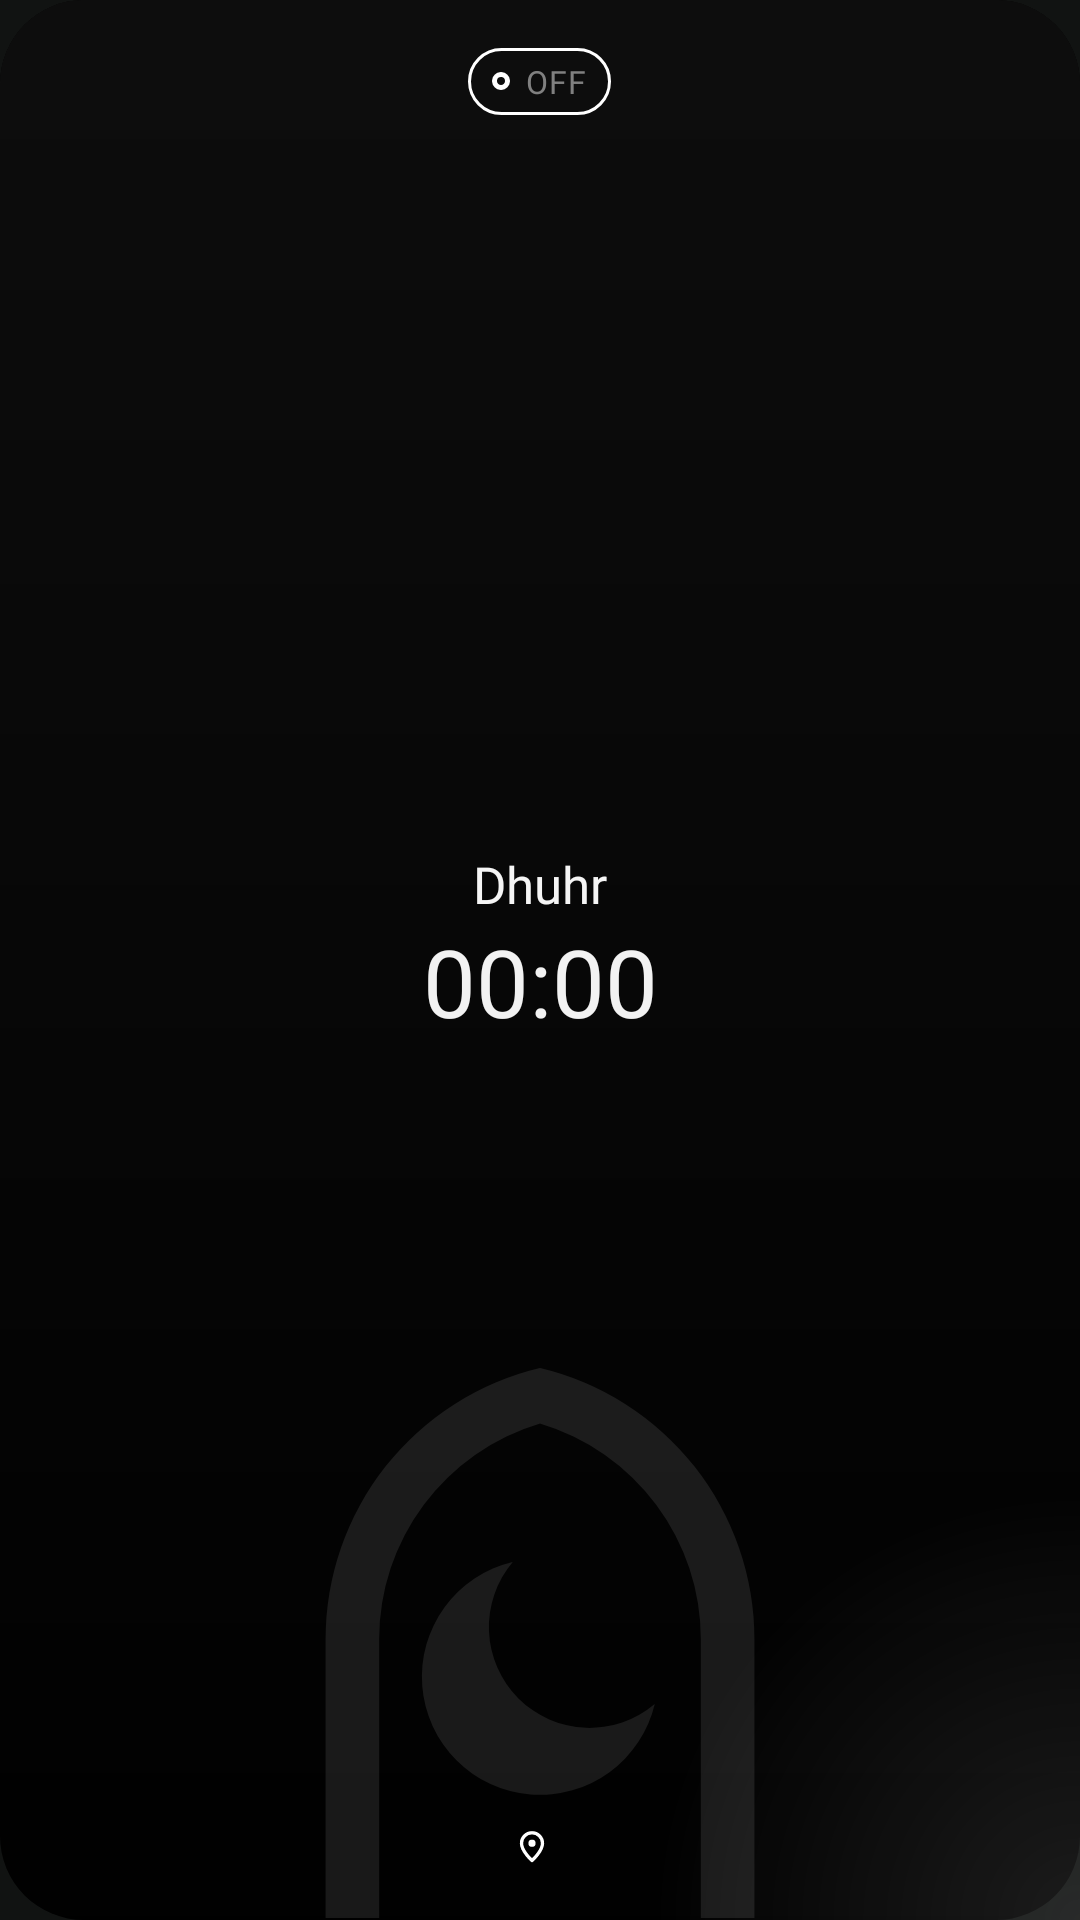

Icons on this 1080x1920 Android screen, each with its box as {"left": x1, "top": y1, "right": x2, "bottom": y2}:
widget pill: {"left": 468, "top": 48, "right": 611, "bottom": 115}
widget pin: {"left": 519, "top": 1831, "right": 545, "bottom": 1863}
